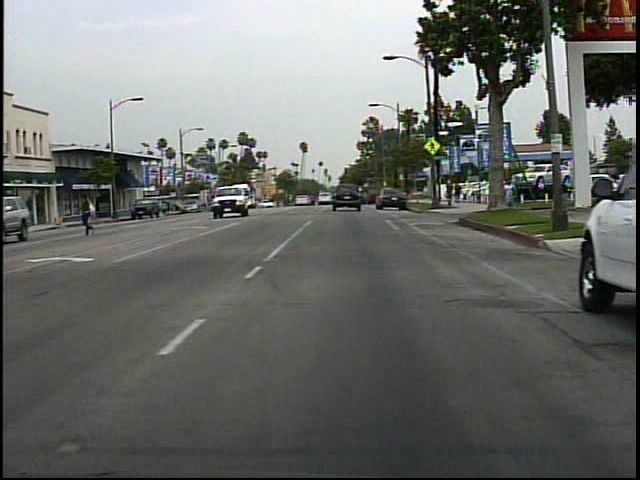person: (76, 189, 104, 239), (502, 176, 516, 210)
